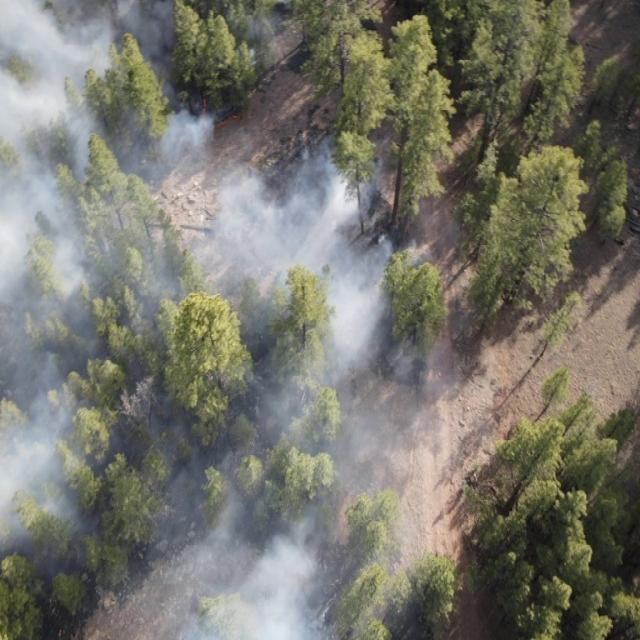fire: (196, 92, 247, 136)
smoke: (0, 2, 295, 640), (294, 132, 473, 640)
